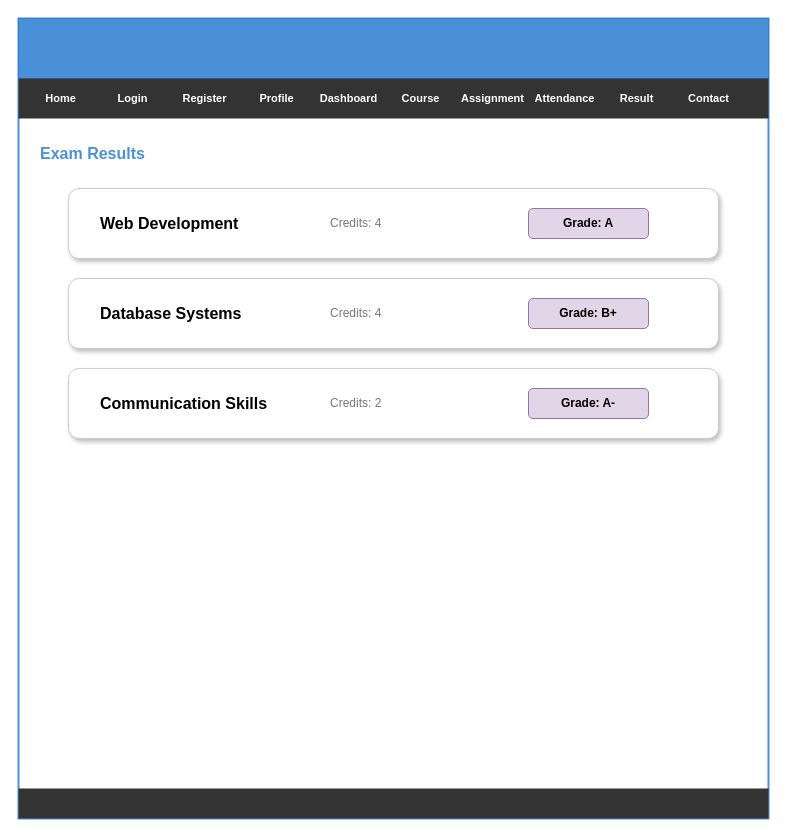
This 786x836 diagram has some shape labels left out. Each missing label, with the centre of its shape:
"Results" belongs at [393,48].
"StudentHub Portal | Semester Academic System" belongs at [393,803].
